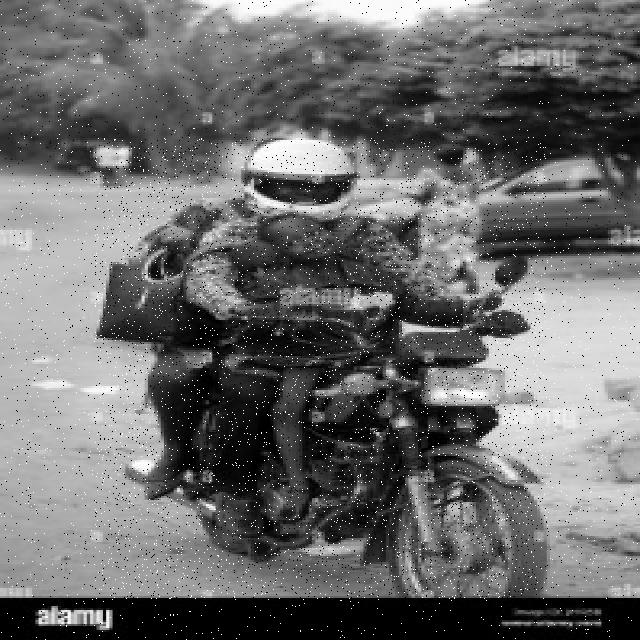Motorbike: (95, 139, 548, 599)
